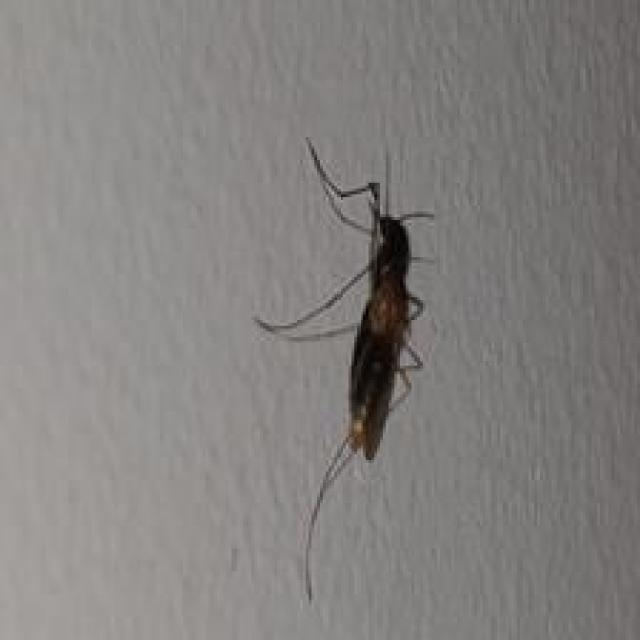Culex: (252, 136, 437, 604)
